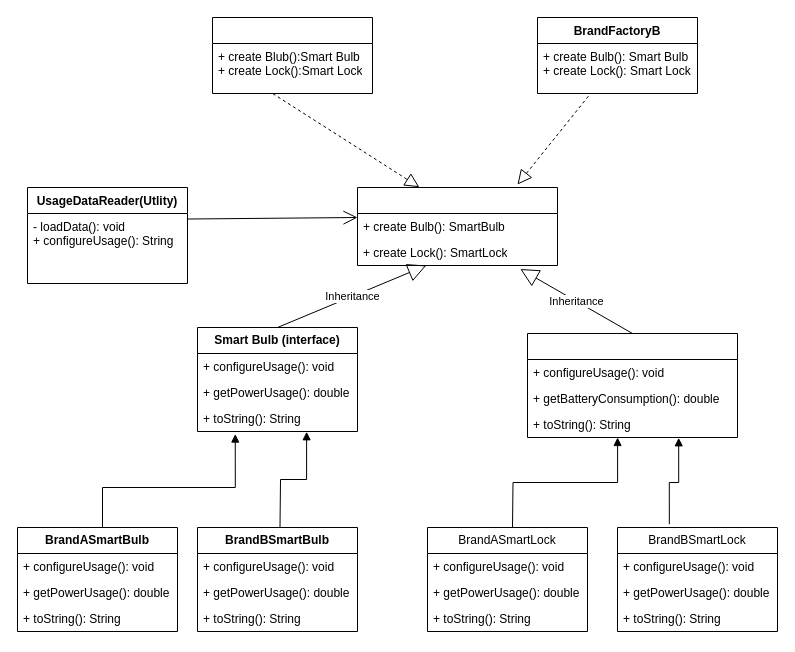
The diagram is 795 pixels wide and 652 high, and some of its shapes have lost their labels. Here are the shapes that lost their labels. From the top down, the box of each, then its label:
(212, 16, 372, 94): BrandFactoryA
(356, 186, 558, 266): SmartDeviceFactory(interface)
(526, 332, 738, 438): Smart Lock (interface)
